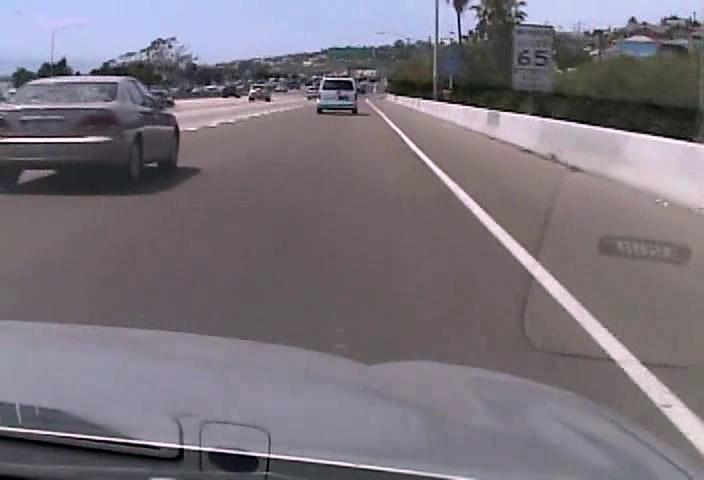speedLimit65: (511, 22, 555, 72)
